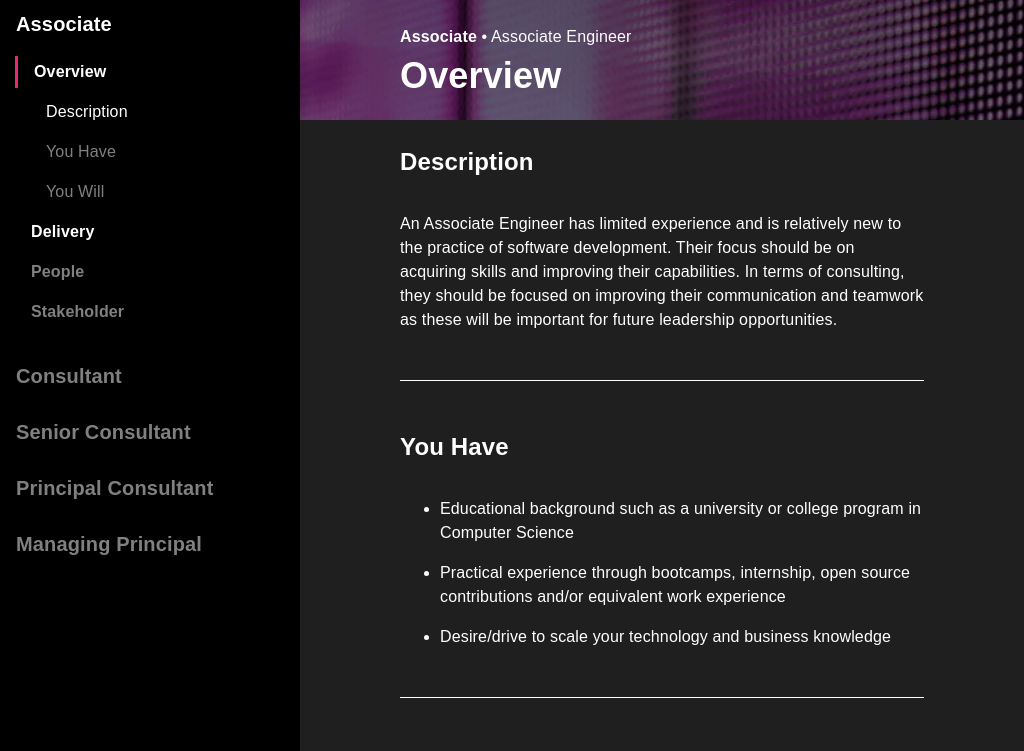
Content › ContentHeader › should click Consultant in the side bar and render level title with Consultant Engineer text
The image size is (1024, 751).
Expected: the element with class "level-title" reads "Associate • Associate Engineer", [400, 28, 632, 45]
Click the button "Consultant" at (69, 376), box [16, 365, 122, 387]
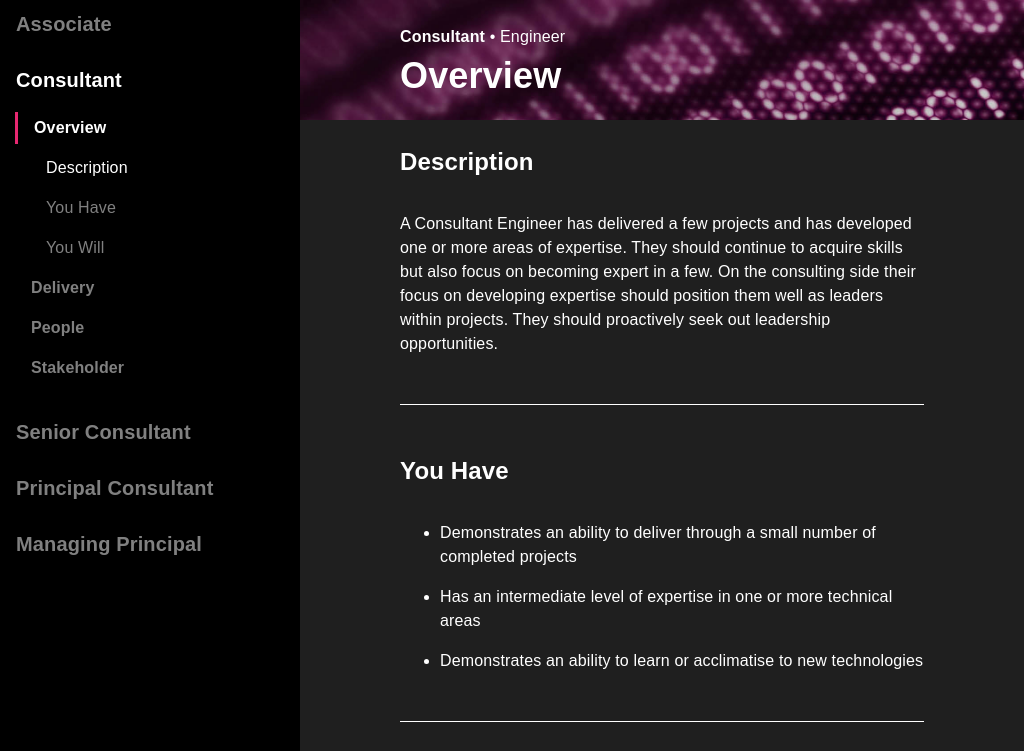
Expected: the element with class "level-title" reads "Consultant • Engineer", [400, 28, 565, 45]
